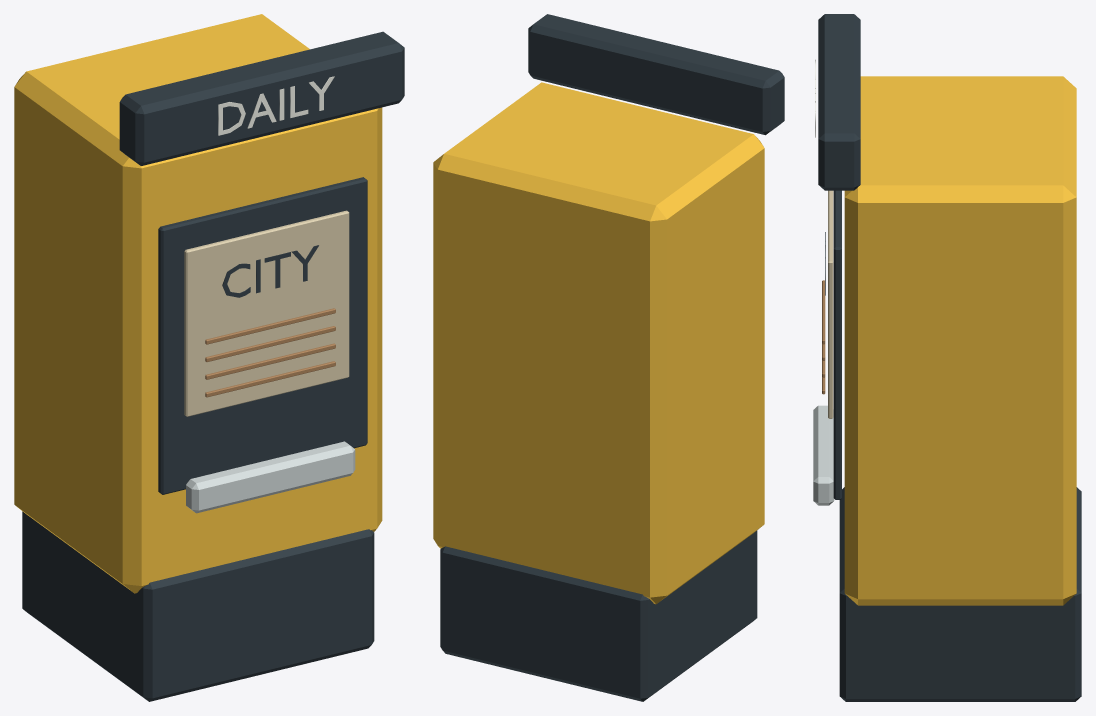
The model's file is Newspaper_Box.glb.
The picture shows the model from 3 angles, left to right: view 1: azimuth 30°, elevation 25°; view 2: azimuth 150°, elevation 25°; view 3: azimuth 270°, elevation 25°; orthographic projection. The views are drawn at different scales.
Parts seen in each view (by area): view 1: Newspaper_Box; view 2: Newspaper_Box; view 3: Newspaper_Box.
Boxes of the visible parts, x1,y1,x2,y2 form: Newspaper_Box: [14, 14, 404, 701]; Newspaper_Box: [433, 14, 784, 701]; Newspaper_Box: [813, 14, 1081, 701].
Bounding box in the file's own units: 0.56 × 1.21 × 0.51.
